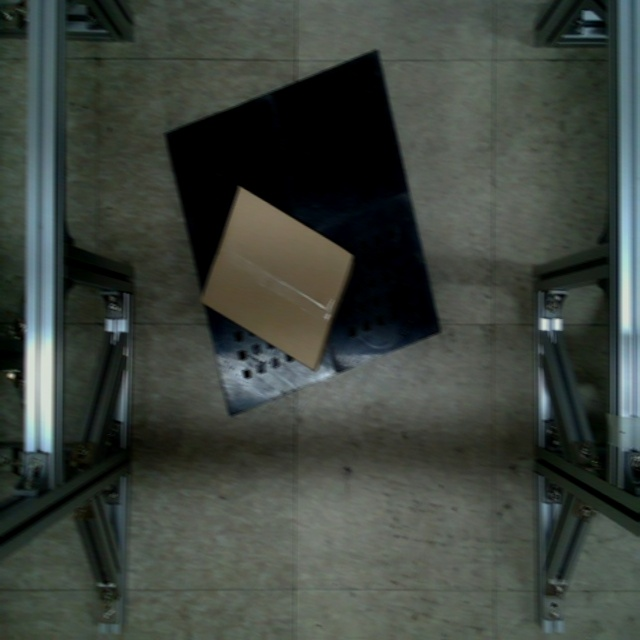box: (199, 181, 356, 376)
pallet: (160, 43, 450, 428)
